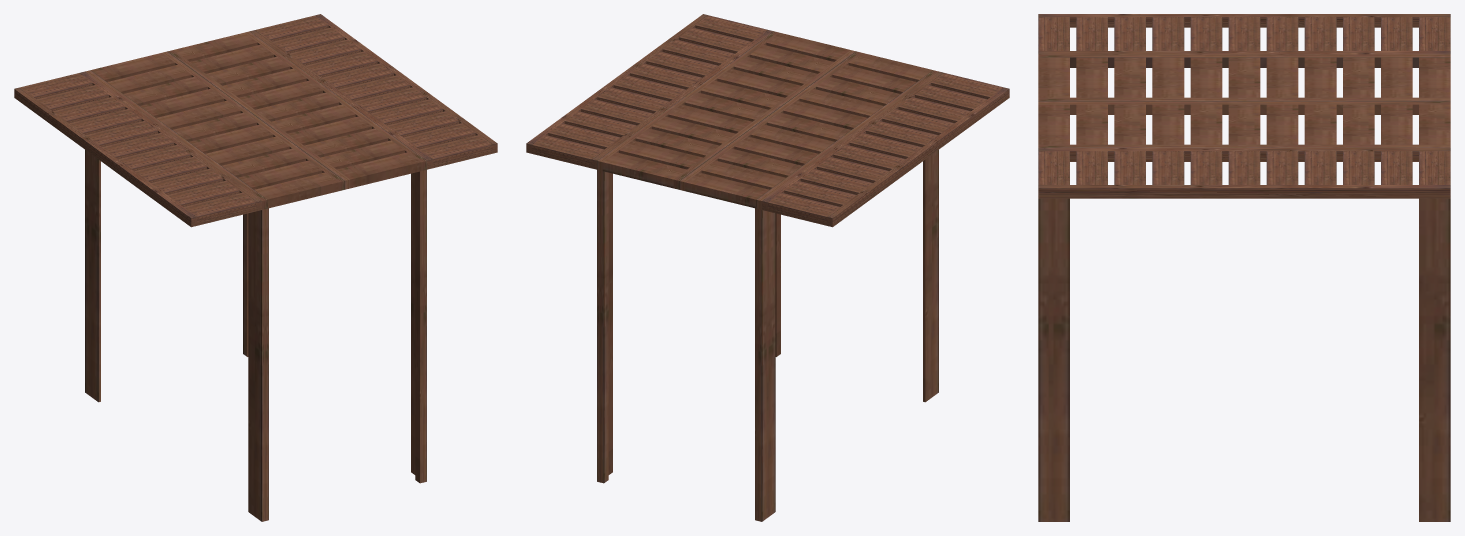
File: sh-contrib-drop-leaf-table.glb
3 views of the same model, side by side, from view 1: azimuth 30°, elevation 25°; view 2: azimuth 150°, elevation 25°; view 3: azimuth 270°, elevation 25° (orthographic). The views are drawn at different scales.
Parts seen in each view (by area): view 1: sweethome3d_opening_on_hinge_1_Drop_leaf_A_right_76_216; view 2: sweethome3d_opening_on_hinge_1_Drop_leaf_A_right_76_216; view 3: sweethome3d_opening_on_hinge_1_Drop_leaf_A_right_76_216.
Part boxes in pixels (x1,y1,x2,y2): sweethome3d_opening_on_hinge_1_Drop_leaf_A_right_76_216: [14, 14, 497, 521]; sweethome3d_opening_on_hinge_1_Drop_leaf_A_right_76_216: [526, 14, 1009, 521]; sweethome3d_opening_on_hinge_1_Drop_leaf_A_right_76_216: [1038, 14, 1450, 521].
Size of the model in its own units: 1 by 1 by 1.
Materials: 2 (1 with a texture image).
